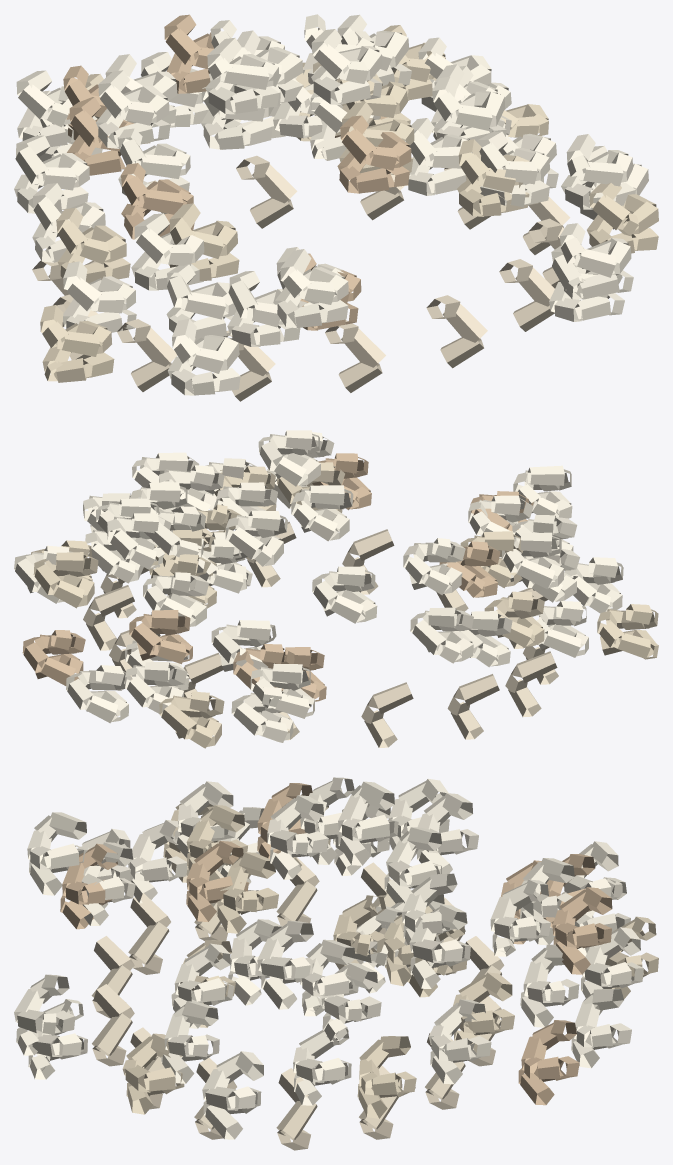
The model's file is wool.glb.
3 views of the same model, one above another, from view 1: azimuth 30°, elevation 25°; view 2: azimuth 150°, elevation 25°; view 3: azimuth 270°, elevation 25° (orthographic). The views are drawn at different scales.
Parts seen in each view (by area): view 1: wool_trade_good; view 2: wool_trade_good; view 3: wool_trade_good.
Part boxes in pixels (x1=…): wool_trade_good: x1=14, y1=14, x2=658, y2=401; wool_trade_good: x1=14, y1=430, x2=658, y2=748; wool_trade_good: x1=14, y1=777, x2=658, y2=1150.
Bounding box in the file's own units: 1.47 × 0.5994 × 1.36.
